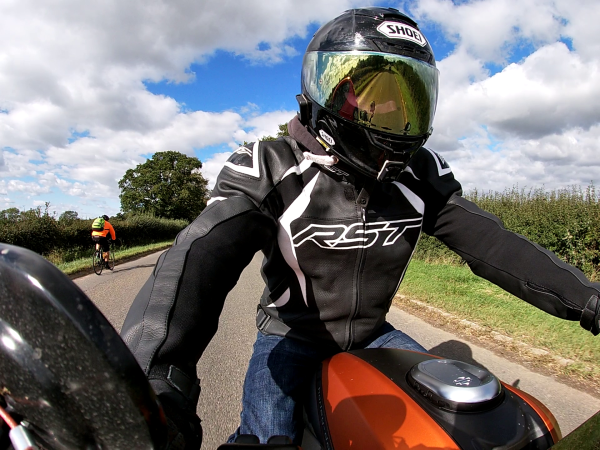helmets: (278, 9, 446, 196)
